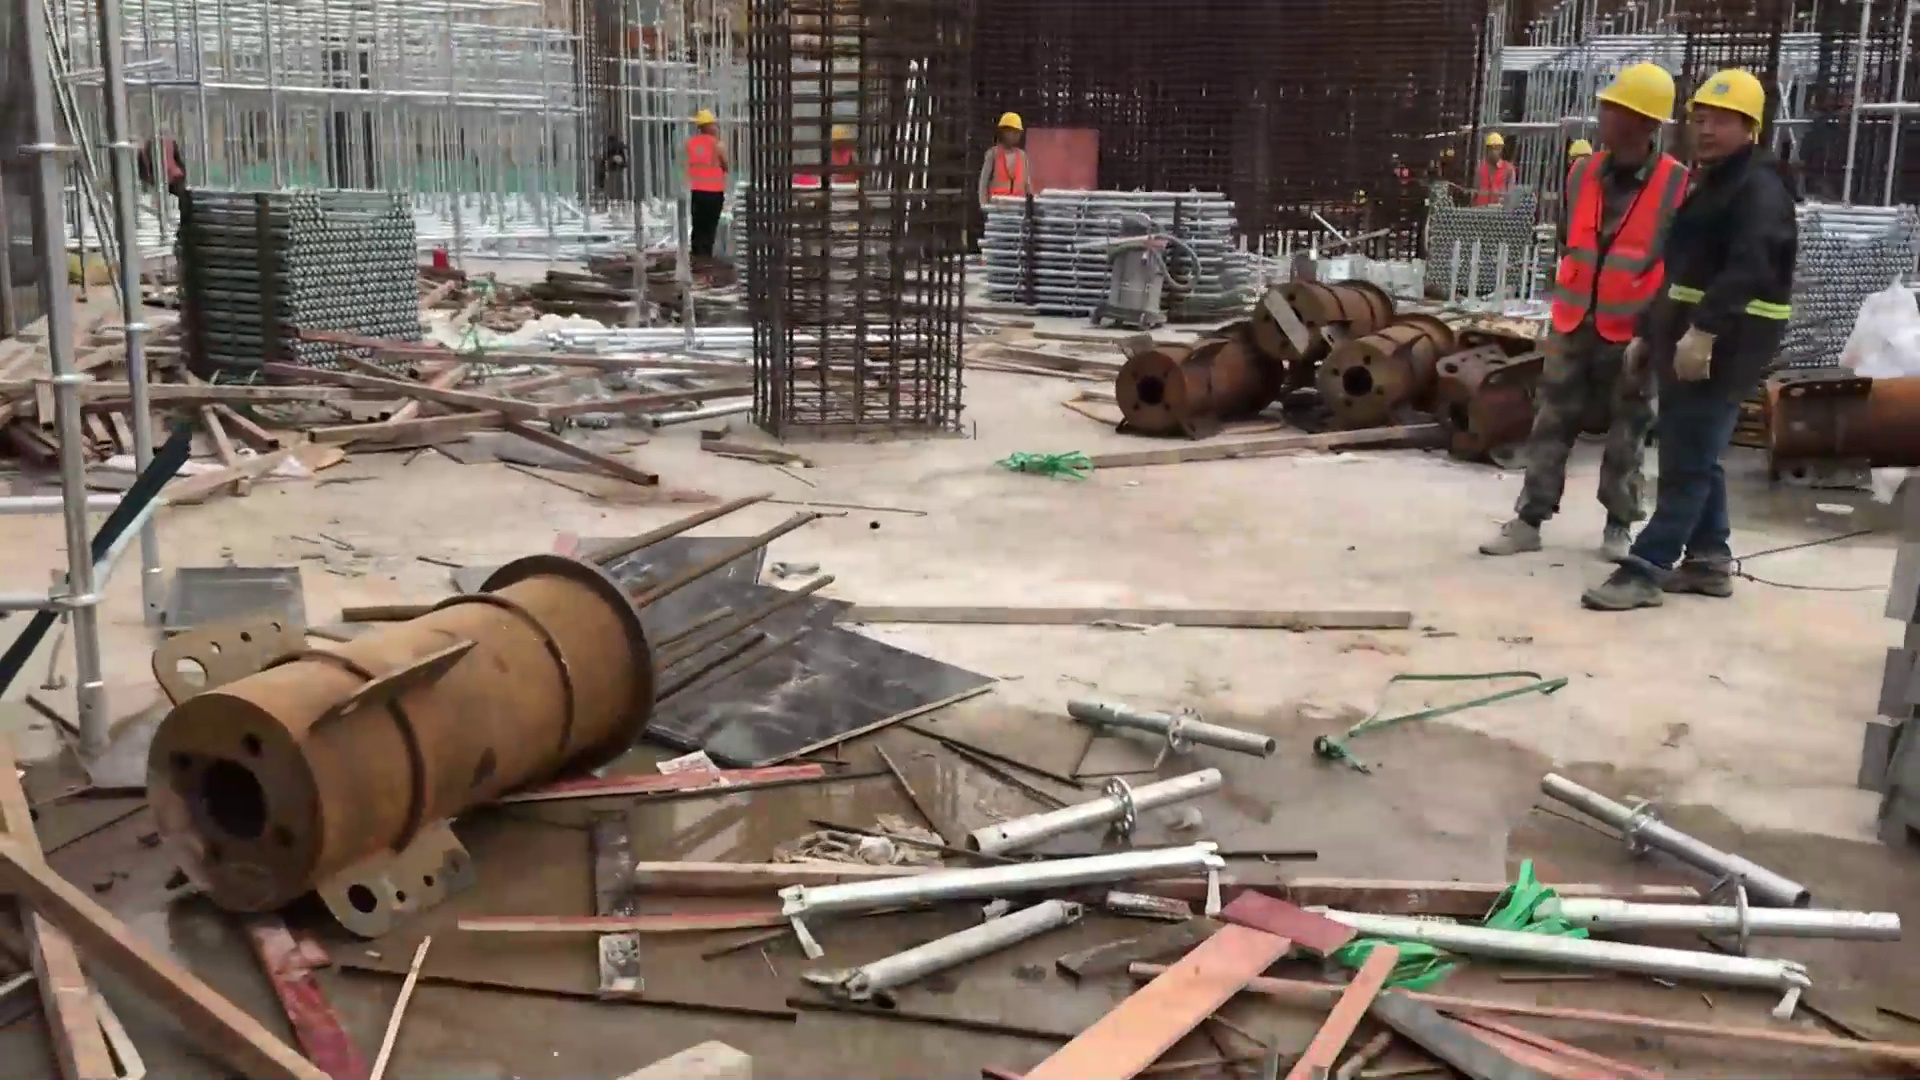helmet: (1673, 54, 1778, 126), (1578, 57, 1685, 122), (988, 104, 1040, 145), (689, 92, 735, 126)
person: (1610, 65, 1798, 628), (1524, 53, 1665, 557), (974, 101, 1040, 199), (683, 101, 716, 281)
vest: (1551, 131, 1673, 337), (675, 126, 728, 200), (988, 134, 1024, 204), (1470, 150, 1511, 201)
